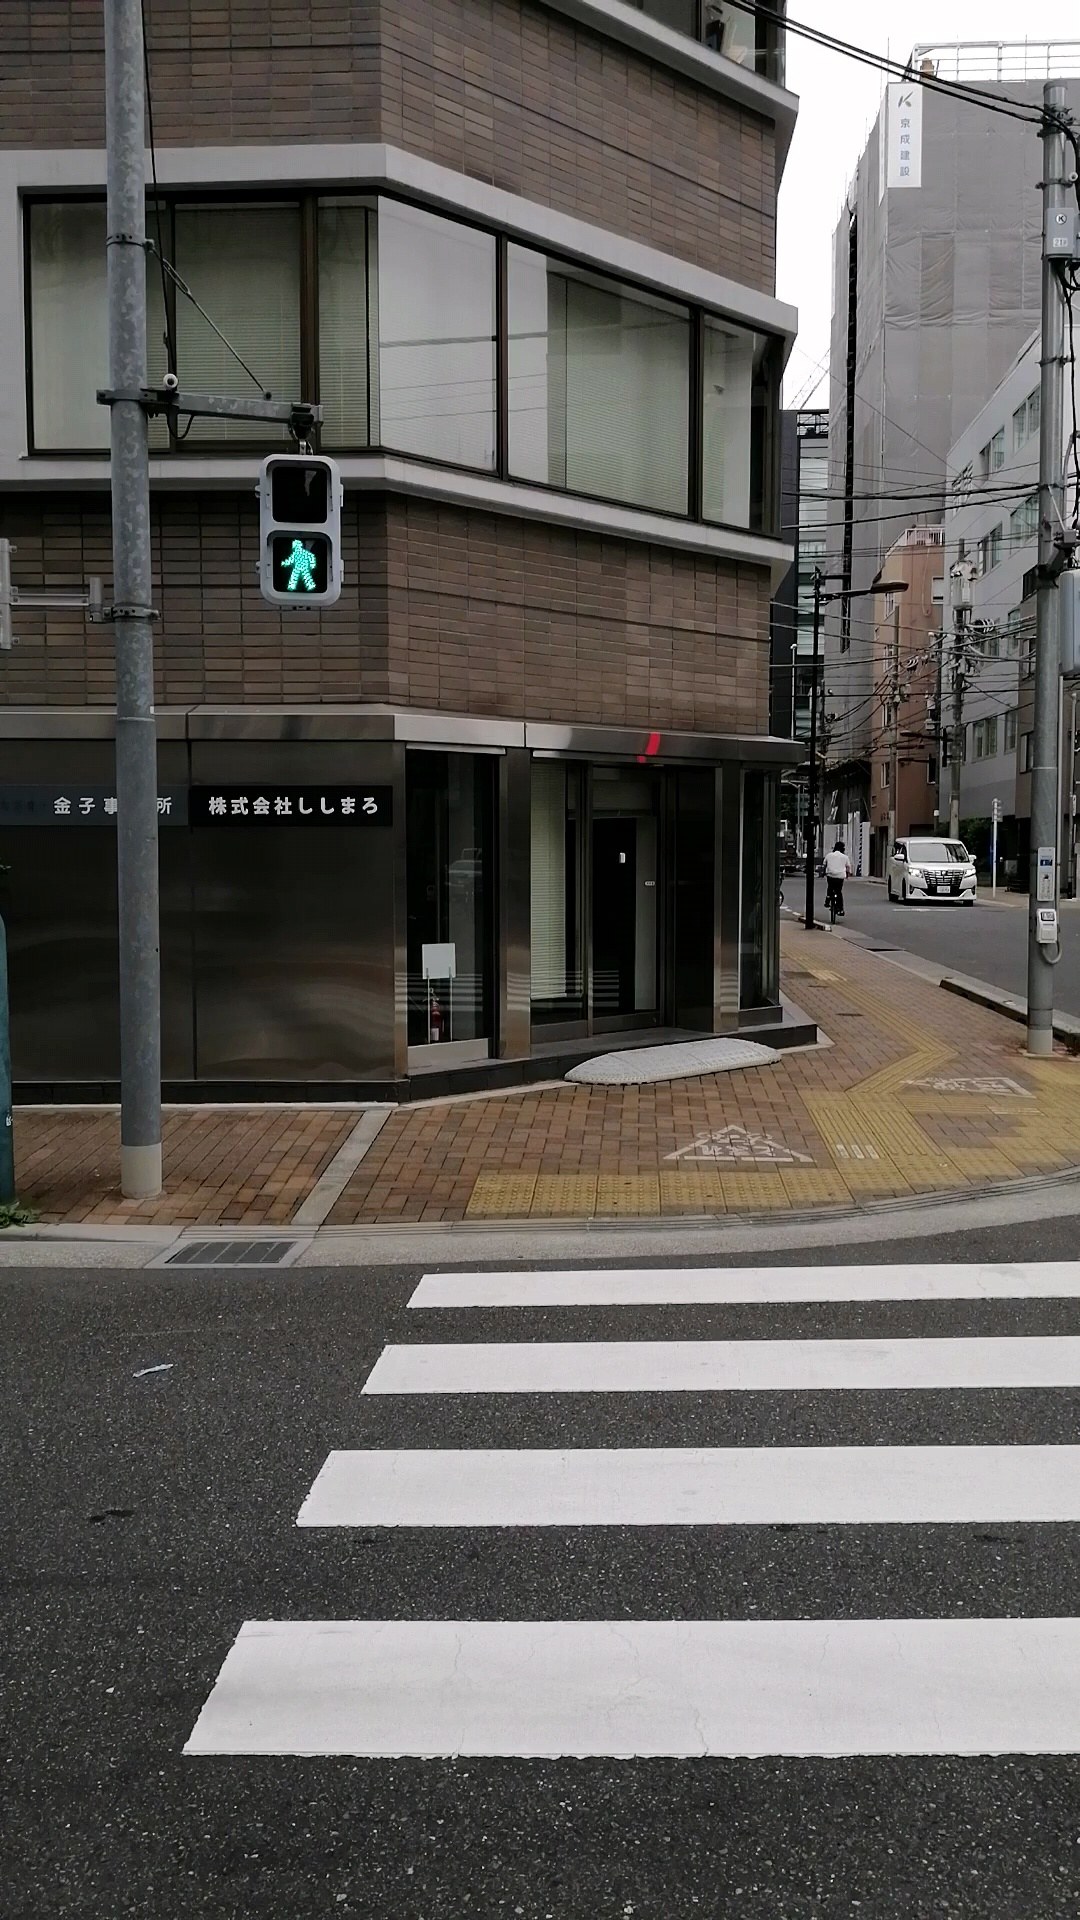green: (256, 454, 347, 607)
